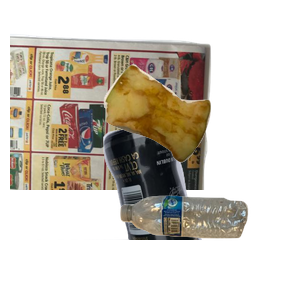glass: (37, 120, 231, 300)
paper: (10, 31, 214, 211)
plastic: (118, 193, 300, 300)
trash: (101, 62, 300, 217)
